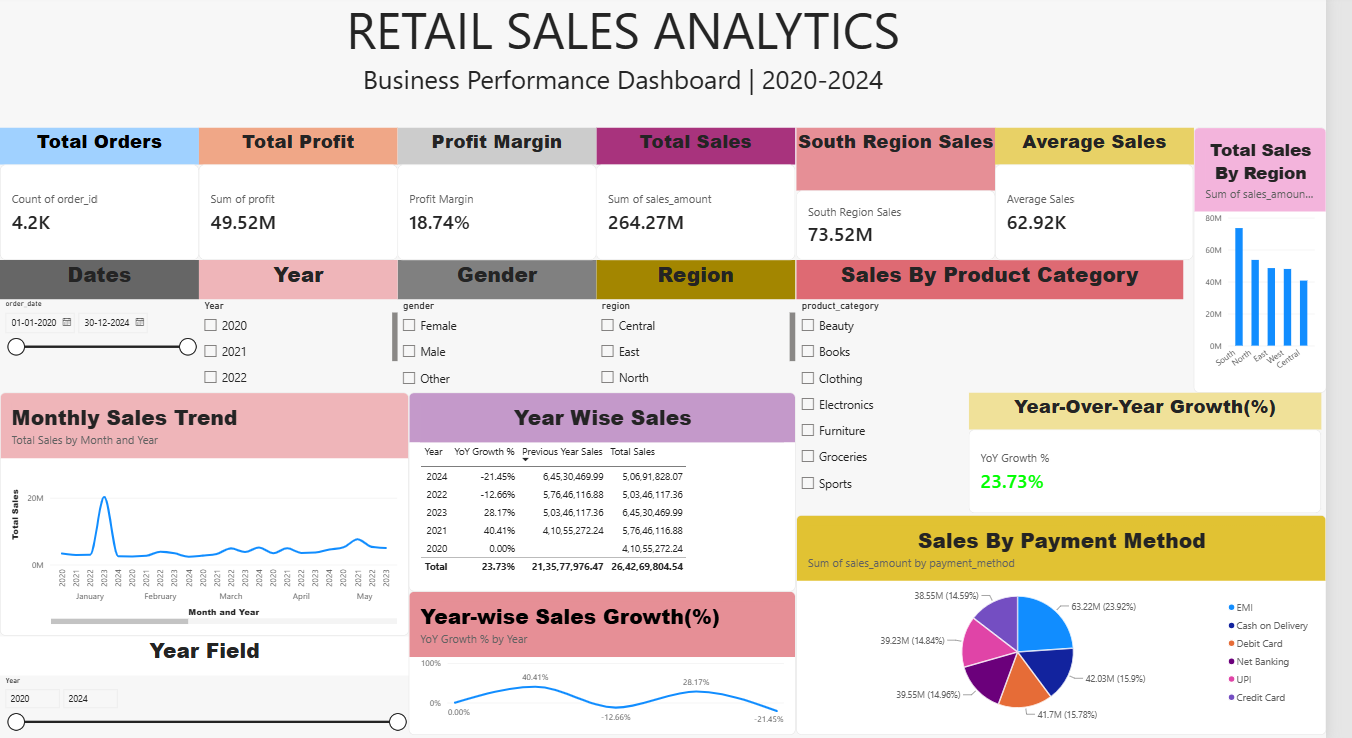

This screenshot's page, from the dashboard's own definition file:
{"tool":"powerbi","page":{"name":"Page 1","canvas":[1920,1080],"ordinal":0},"visuals":[{"type":"cardVisual","title":"Total Orders","fields":{"Data":["CountNonNull(retail_sales_final.order_id)"]},"box":[0,192,288,192],"z":0},{"type":"cardVisual","title":"Total Profit","fields":{"Data":["Sum(retail_sales_final.profit)"]},"box":[288,192,288,192],"z":1000},{"type":"clusteredColumnChart","title":"Total Sales By Region","fields":{"Category":["retail_sales_final.region"],"Y":["Sum(retail_sales_final.sales_amount)"]},"box":[1728,192,192,384],"z":2000},{"type":"cardVisual","title":"South Region Sales ","fields":{"Data":["retail_sales_final.South Region Sales"]},"box":[1152,192,288,192],"z":4500},{"type":"pieChart","title":"Sales By Payment Method","fields":{"Category":["retail_sales_final.payment_method"],"Y":["Sum(retail_sales_final.sales_amount)"]},"box":[1152.8,752.8,767.3,318.5],"z":5000},{"type":"slicer","title":"Region","fields":{"Values":["retail_sales_final.region"]},"box":[864,384,288,192],"z":6000},{"type":"slicer","title":"Sales By Product Category","fields":{"Values":["retail_sales_final.product_category"]},"box":[1152,384,560,368],"z":7000},{"type":"slicer","title":"Gender","fields":{"Values":["retail_sales_final.gender"]},"box":[576,384,288,192],"z":8000},{"type":"slicer","title":"Dates ","fields":{"Values":["retail_sales_final.order_date"]},"box":[0,384,288,192],"z":9000},{"type":"slicer","title":"Year ","fields":{"Values":["DateTable.Year"]},"box":[288,384,288,192],"z":10000},{"type":"cardVisual","title":"Total Sales ","fields":{"Data":["Sum(retail_sales_final.sales_amount)"]},"box":[864,192,288,192],"z":11000},{"type":"cardVisual","title":"Profit Margin","fields":{"Data":["retail_sales_final.Profit Margin"]},"box":[576,192,288,192],"z":12000},{"type":"tableEx","title":"Year Wise Sales ","fields":{"Values":["DateTable.Year","retail_sales_final.YoY Growth %","retail_sales_final.Previous Year Sales","retail_sales_final.Total Sales"]},"box":[592,576,560,288],"z":14000},{"type":"cardVisual","title":"Year-Over-Year Growth(%)","fields":{"Data":["retail_sales_final.YoY Growth %"]},"box":[1402.5,575.5,510.3,175.5],"z":15000},{"type":"slicer","title":"Year Field","fields":{"Values":["DateTable.Year"]},"box":[0,928,592,144],"z":16000},{"type":"lineChart","title":"Year-wise Sales Growth(%)","fields":{"Category":["DateTable.Year"],"Y":["retail_sales_final.YoY Growth %"]},"box":[592,864,560,208],"z":17000},{"type":"lineChart","title":"Monthly Sales Trend","fields":{"Category":["DateTable.Month","DateTable.Year"],"Y":["retail_sales_final.Total Sales"]},"box":[0,576,592,352],"z":18000},{"type":"textbox","box":[333,0,1138.3,166.5],"z":19000},{"type":"cardVisual","title":"Average Sales ","fields":{"Data":["retail_sales_final.Average Sales"]},"box":[1440.5,191.8,287.7,191.8],"z":19001}]}

Visuals, with their boxes on the page's 1920x1080 design canvas (x1, y1, x2, y2). These are canvas units, not pixel positions in the 1352x738 screenshot, which may show the page scaled, cropped or inside an application window:
"Total Orders" cardVisual: <bbox>0, 192, 288, 384</bbox>
"Total Profit" cardVisual: <bbox>288, 192, 576, 384</bbox>
"Total Sales By Region" clusteredColumnChart: <bbox>1728, 192, 1920, 576</bbox>
"South Region Sales " cardVisual: <bbox>1152, 192, 1440, 384</bbox>
"Sales By Payment Method" pieChart: <bbox>1153, 753, 1920, 1071</bbox>
"Region" slicer: <bbox>864, 384, 1152, 576</bbox>
"Sales By Product Category" slicer: <bbox>1152, 384, 1712, 752</bbox>
"Gender" slicer: <bbox>576, 384, 864, 576</bbox>
"Dates " slicer: <bbox>0, 384, 288, 576</bbox>
"Year " slicer: <bbox>288, 384, 576, 576</bbox>
"Total Sales " cardVisual: <bbox>864, 192, 1152, 384</bbox>
"Profit Margin" cardVisual: <bbox>576, 192, 864, 384</bbox>
"Year Wise Sales " tableEx: <bbox>592, 576, 1152, 864</bbox>
"Year-Over-Year Growth(%)" cardVisual: <bbox>1402, 576, 1913, 751</bbox>
"Year Field" slicer: <bbox>0, 928, 592, 1072</bbox>
"Year-wise Sales Growth(%)" lineChart: <bbox>592, 864, 1152, 1072</bbox>
"Monthly Sales Trend" lineChart: <bbox>0, 576, 592, 928</bbox>
textbox: <bbox>333, 0, 1471, 166</bbox>
"Average Sales " cardVisual: <bbox>1440, 192, 1728, 384</bbox>
